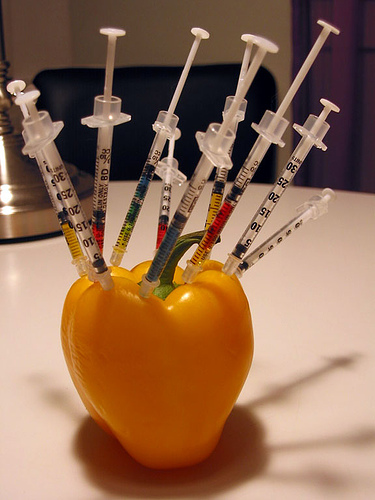capsicum: (61, 260, 252, 468)
